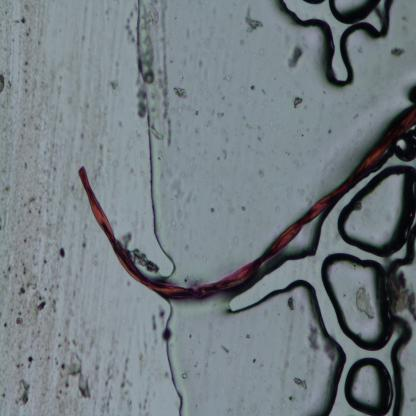Air bubble: (213, 278, 355, 416), (125, 0, 183, 270), (272, 0, 397, 98), (316, 249, 404, 348), (330, 166, 416, 262), (385, 254, 416, 414), (158, 297, 192, 416), (342, 355, 396, 416)
Background material: (45, 341, 97, 400), (0, 270, 50, 328), (97, 348, 119, 416), (354, 286, 378, 321), (10, 381, 34, 409), (132, 249, 160, 272), (169, 173, 188, 204), (119, 350, 133, 389), (286, 46, 306, 72), (245, 5, 261, 32), (308, 323, 320, 352), (54, 242, 66, 265), (292, 375, 308, 392), (120, 229, 132, 250), (160, 326, 174, 344), (108, 74, 120, 94), (0, 63, 9, 89), (26, 352, 38, 370), (285, 294, 296, 312), (172, 87, 187, 100), (389, 46, 405, 58), (251, 166, 266, 178), (148, 313, 158, 331), (218, 342, 232, 354), (157, 306, 165, 325), (248, 351, 258, 366), (219, 145, 228, 160), (252, 131, 262, 144), (292, 97, 303, 108), (223, 71, 232, 84), (194, 57, 202, 70), (238, 37, 247, 47), (206, 203, 215, 213), (180, 370, 188, 380), (250, 82, 256, 94), (244, 331, 251, 340), (241, 204, 248, 213), (129, 164, 135, 174), (260, 86, 266, 96), (194, 126, 200, 134), (207, 119, 212, 127), (328, 127, 332, 136), (194, 110, 201, 115), (247, 124, 252, 130), (220, 113, 224, 118), (221, 96, 225, 101)
Cotton: (75, 108, 416, 306)
